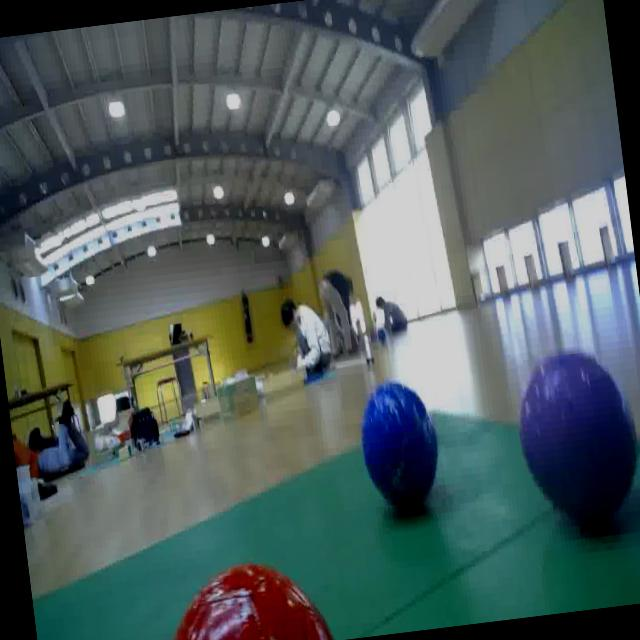blue_ball: (349, 352, 450, 512)
purple_ball: (517, 342, 640, 539)
red_ball: (149, 554, 343, 640)
